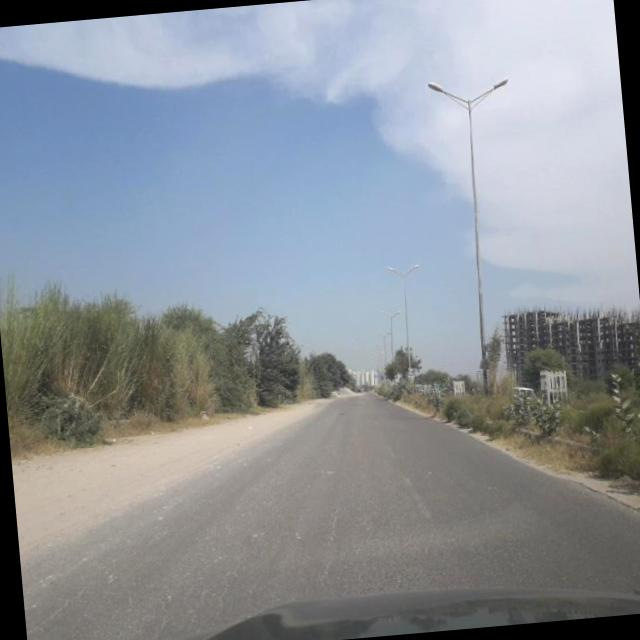crack: (21, 448, 508, 624)
pothole: (311, 468, 352, 580), (34, 574, 95, 638), (194, 568, 233, 622), (137, 594, 176, 640)
